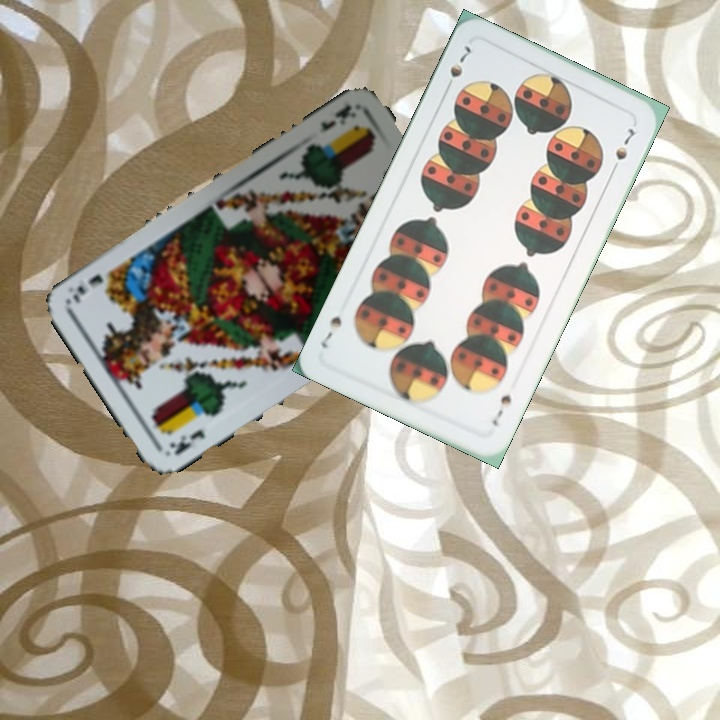EK: (315, 100, 359, 136), (165, 425, 208, 458)
S7: (441, 41, 478, 94), (488, 389, 514, 429)
